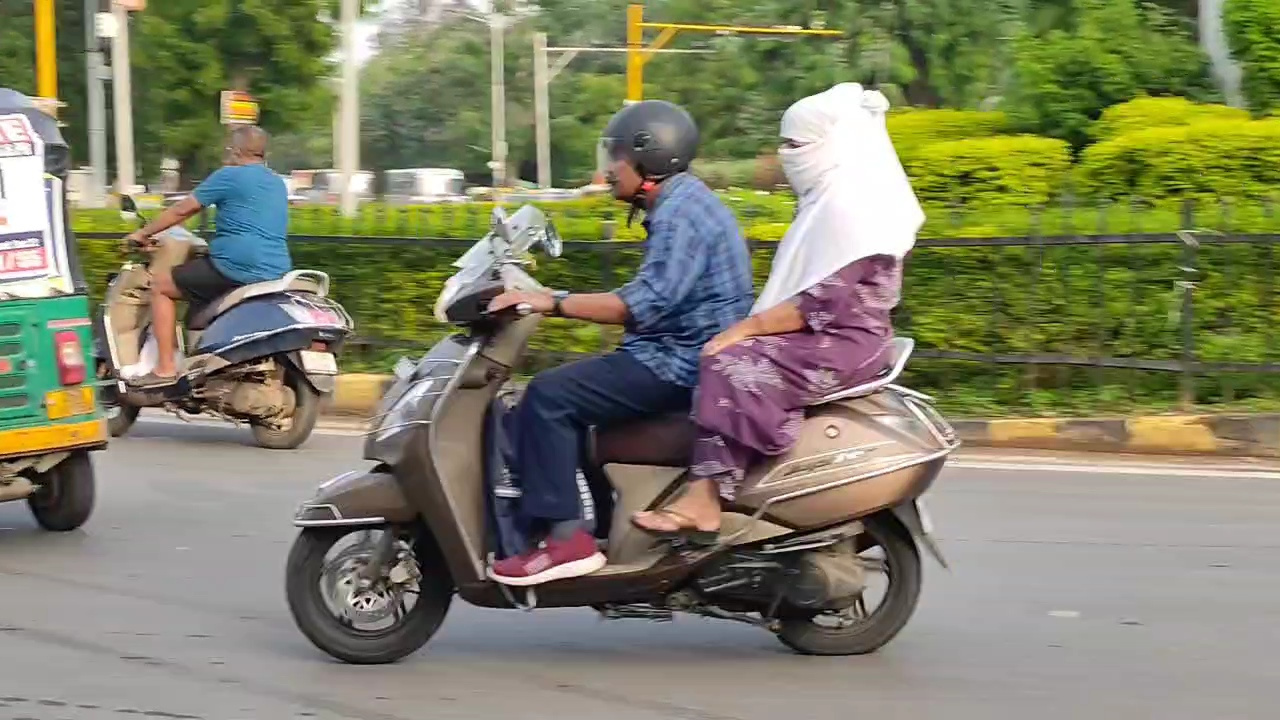BikeWithRider: (262, 69, 978, 672), (86, 116, 364, 455)
Helmet: (589, 92, 711, 212)
NoHelmet: (762, 75, 897, 196), (212, 119, 279, 174)
